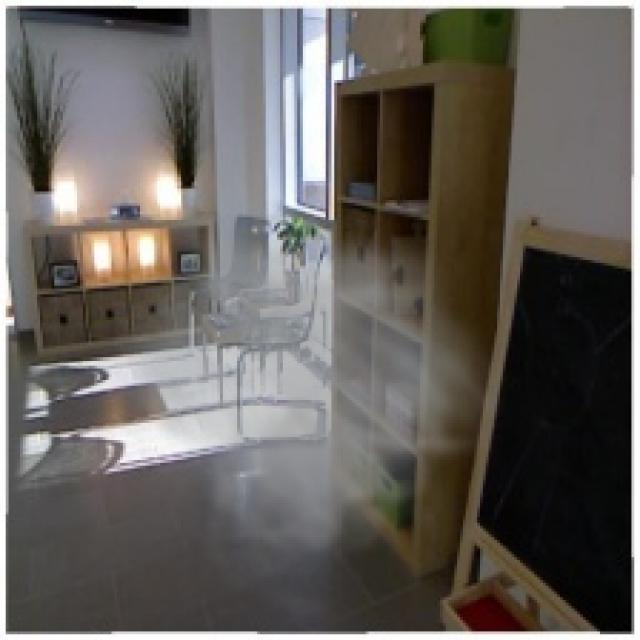Smoke: (100, 215, 514, 594)
